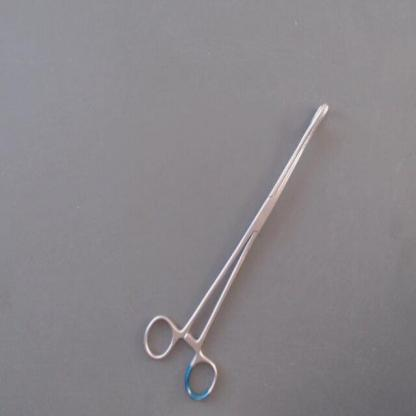Sponge Forceps: (136, 89, 340, 411)
